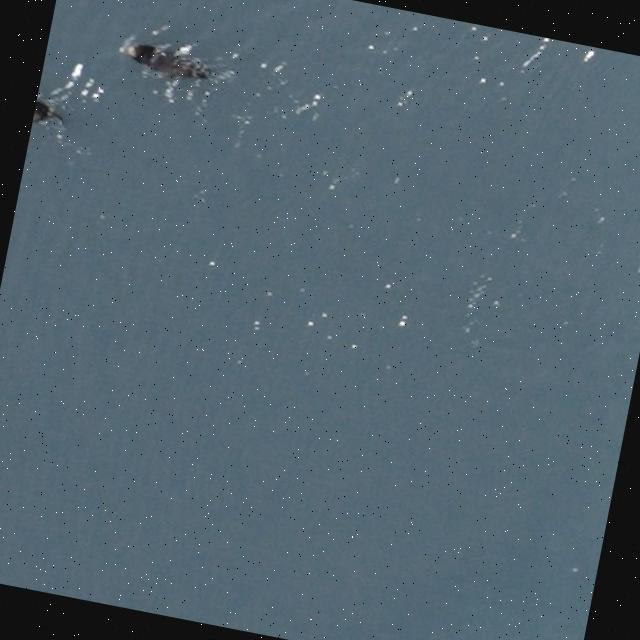seal: (124, 36, 210, 94), (34, 100, 64, 126)
